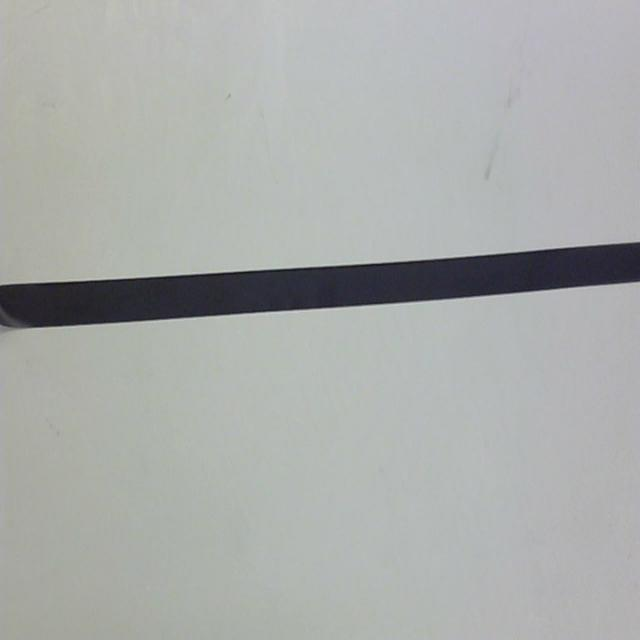tape: (0, 226, 640, 348)
